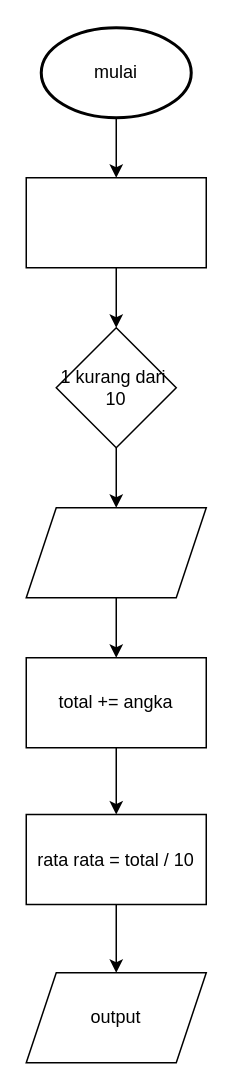
The diagram is 233 pixels wide and 1089 high, and some of its shapes have lost their labels. The box of each missing label's shape, as (x1, y1, x2, y2) in pixels:
input: (25, 506, 206, 598)
total = 0, i = 1: (25, 176, 206, 268)
